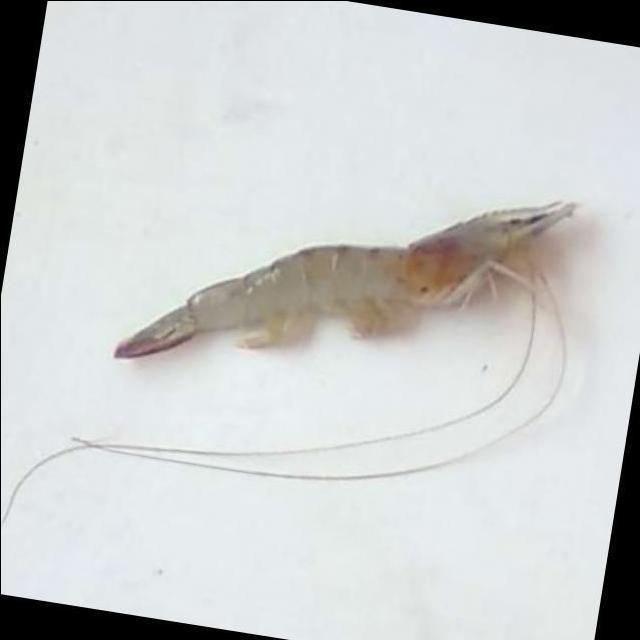shrimp: (114, 200, 577, 358)
